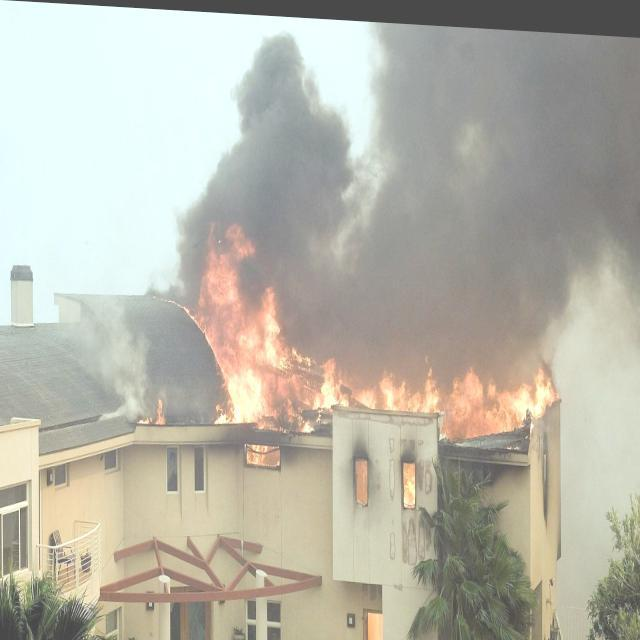Fire: (207, 338, 555, 439), (200, 220, 282, 427), (248, 442, 278, 466), (140, 394, 162, 425), (404, 465, 414, 502)
